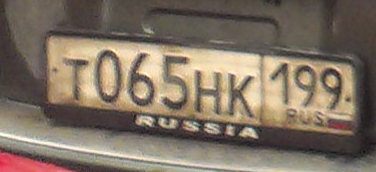character: (159, 49, 191, 111), (126, 49, 158, 108), (91, 50, 123, 103), (226, 73, 256, 122), (193, 68, 223, 116), (63, 54, 91, 103), (318, 62, 343, 111), (269, 58, 293, 106), (293, 60, 317, 108)
